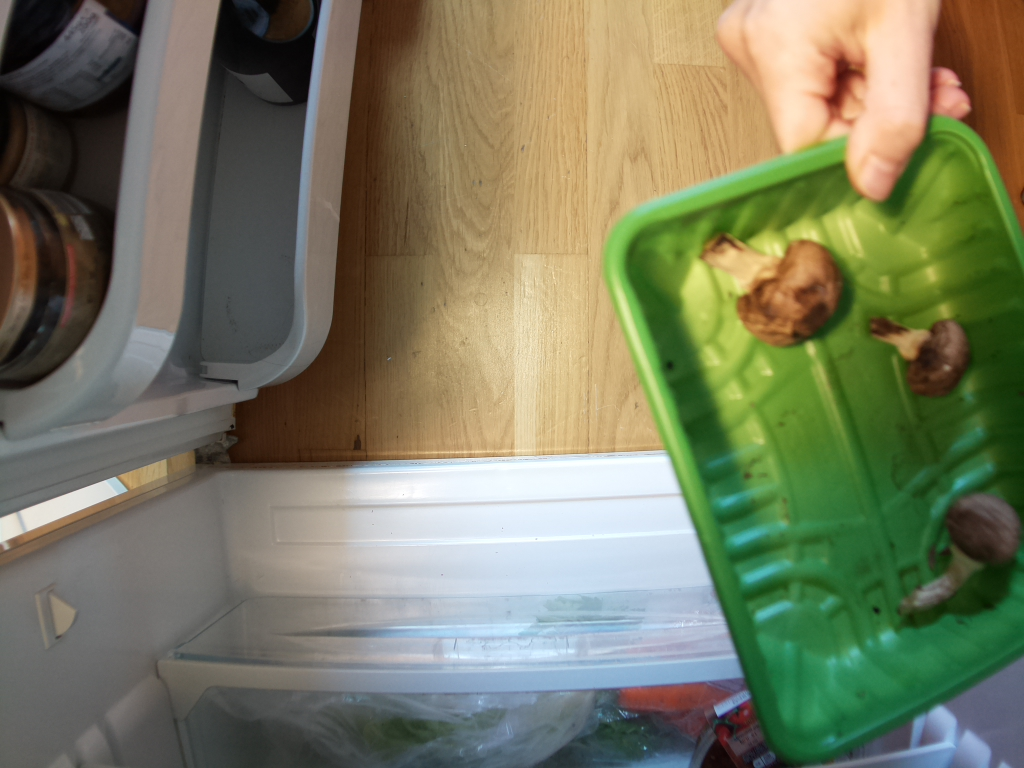mushrooms-bad: (594, 123, 1024, 732)
